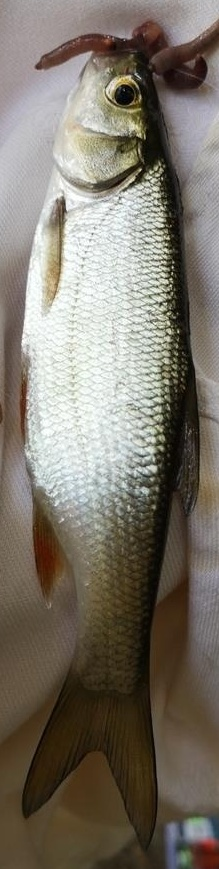Aspius aspius: (20, 20, 199, 849)
